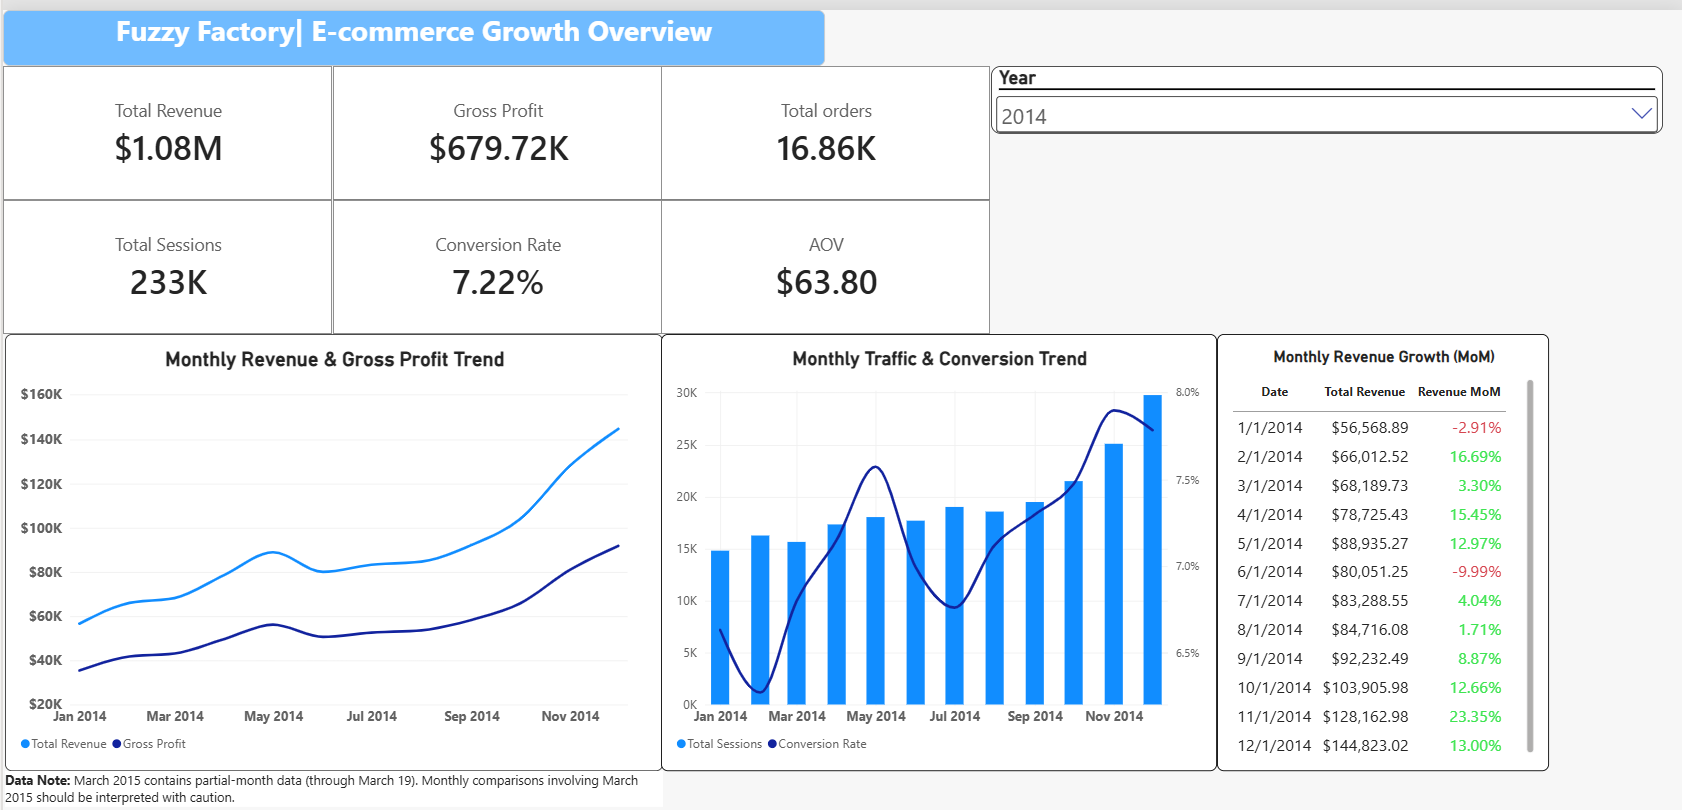

The page's visual inventory and layout, read from the dashboard file:
{"tool":"powerbi","page":{"name":"Growth Overview","canvas":[1920,1080],"ordinal":0},"visuals":[{"type":"cardVisual","fields":{"Data":["Query1.Total Revenue"]},"box":[0,64,376.7,153.9],"z":0},{"type":"cardVisual","fields":{"Data":["Query1.Gross Profit"]},"box":[377.1,64,376.7,153.9],"z":1000},{"type":"cardVisual","fields":{"Data":["Query1.Total Session"]},"box":[0,217.1,376.7,153.9],"z":2000},{"type":"cardVisual","fields":{"Data":["Query1.Conversion Rate"]},"box":[377.1,217.1,376.7,153.9],"z":3000},{"type":"slicer","fields":{"Values":["Dim_Date.Year"]},"box":[1129.1,64,768,77.7],"z":4000},{"type":"lineChart","title":"Monthly Revenue & Gross Profit Trend","fields":{"Category":["Dim_Date.Date"],"Y":["Query1.Total Revenue","Query1.Gross Profit"]},"box":[2.3,370.3,752,498.3],"z":5000},{"type":"lineClusteredColumnComboChart","title":"Monthly Traffic & Conversion Trend","fields":{"Category":["Dim_Date.Date"],"Y":["Query1.Total Sessions"],"Y2":["Query1.Conversion Rate"]},"box":[752,370.3,635.4,498.3],"z":6000},{"type":"tableEx","title":"Monthly Revenue Growth (MoM)","fields":{"Values":["Dim_Date.Date","Query1.Total Revenue","Query1.Revenue MoM"]},"box":[1387.4,370.3,379.4,498.3],"z":7000},{"type":"textbox","title":"Fuzzy Factory| E-commerce Growth Overview","box":[0,0,939.4,64],"z":8000},{"type":"textbox","box":[2.3,868.6,752,41.1],"z":9000},{"type":"cardVisual","fields":{"Data":["Query1.Total_orders"]},"box":[752,64,376.7,153.9],"z":10000},{"type":"cardVisual","fields":{"Data":["Query1.AOV"]},"box":[752,217.1,376.7,153.9],"z":11000}]}

Visuals, with their boxes on the page's 1920x1080 design canvas (x1, y1, x2, y2). These are canvas units, not pixel positions in the 1682x810 screenshot, which may show the page scaled, cropped or inside an application window:
cardVisual - Query1.Total Revenue: select_region(0, 64, 377, 218)
cardVisual - Query1.Gross Profit: select_region(377, 64, 754, 218)
cardVisual - Query1.Total Session: select_region(0, 217, 377, 371)
cardVisual - Query1.Conversion Rate: select_region(377, 217, 754, 371)
slicer - Dim_Date.Year: select_region(1129, 64, 1897, 142)
"Monthly Revenue & Gross Profit Trend" lineChart: select_region(2, 370, 754, 869)
"Monthly Traffic & Conversion Trend" lineClusteredColumnComboChart: select_region(752, 370, 1387, 869)
"Monthly Revenue Growth (MoM)" tableEx: select_region(1387, 370, 1767, 869)
"Fuzzy Factory| E-commerce Growth Overview" textbox: select_region(0, 0, 939, 64)
textbox: select_region(2, 869, 754, 910)
cardVisual - Query1.Total_orders: select_region(752, 64, 1129, 218)
cardVisual - Query1.AOV: select_region(752, 217, 1129, 371)
